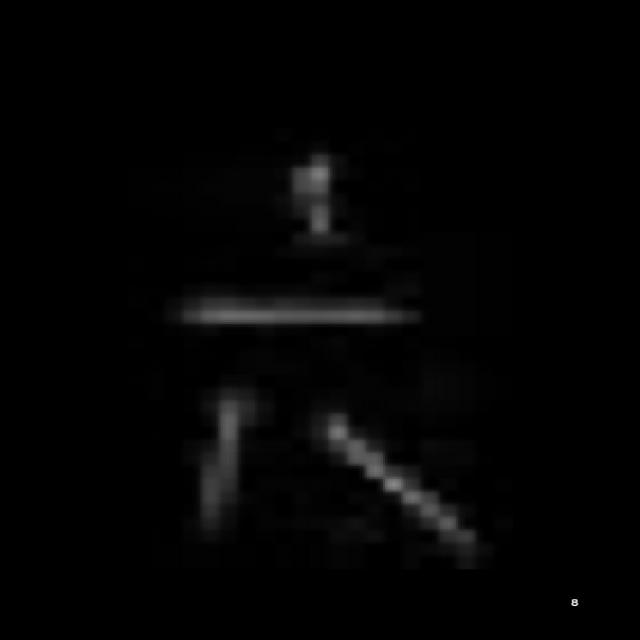6 -six-: (127, 147, 504, 568)
